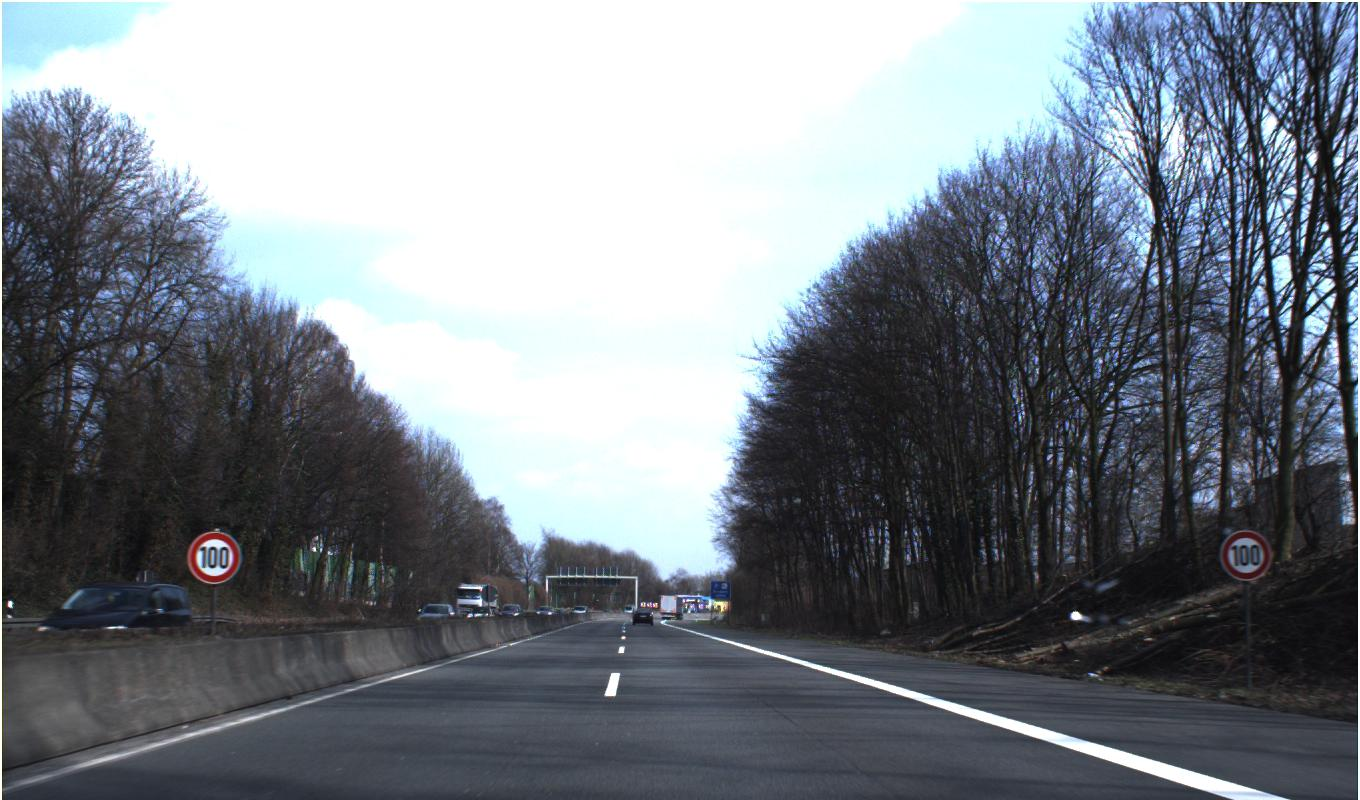prohibitory: (187, 530, 241, 584), (1219, 528, 1271, 580)
